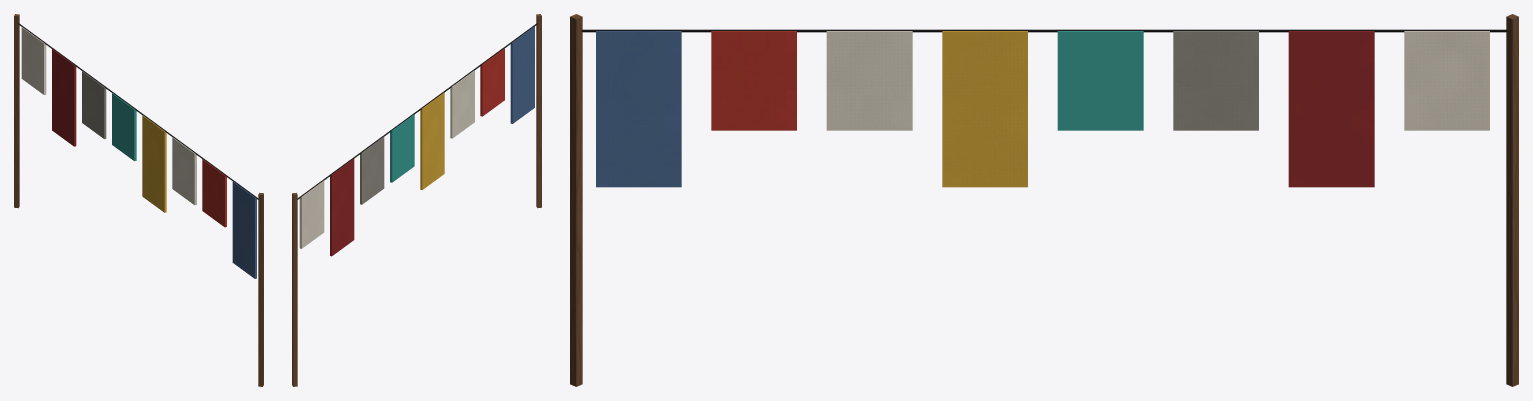
File: tvattlina_eg_tex.glb
3 renders of one model, left to right at view 1: azimuth 30°, elevation 25°; view 2: azimuth 150°, elevation 25°; view 3: azimuth 270°, elevation 25°, orthographic. The views are drawn at different scales.
Parts seen in each view (by area): view 1: tvattlina_eg; view 2: tvattlina_eg; view 3: tvattlina_eg.
Part boxes in pixels (x1,y1,x2,y2): tvattlina_eg: (14, 14, 263, 386); tvattlina_eg: (292, 14, 541, 386); tvattlina_eg: (570, 14, 1518, 386).
Size of the model in its own units: 0.08 by 2.6 by 6.08.
Materials: 10 (8 with a texture image).
